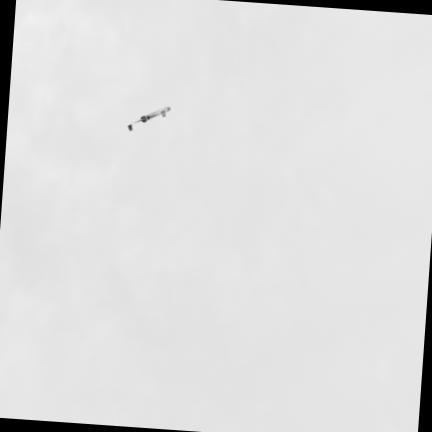Shahed: (133, 107, 169, 123), (127, 124, 131, 130)
